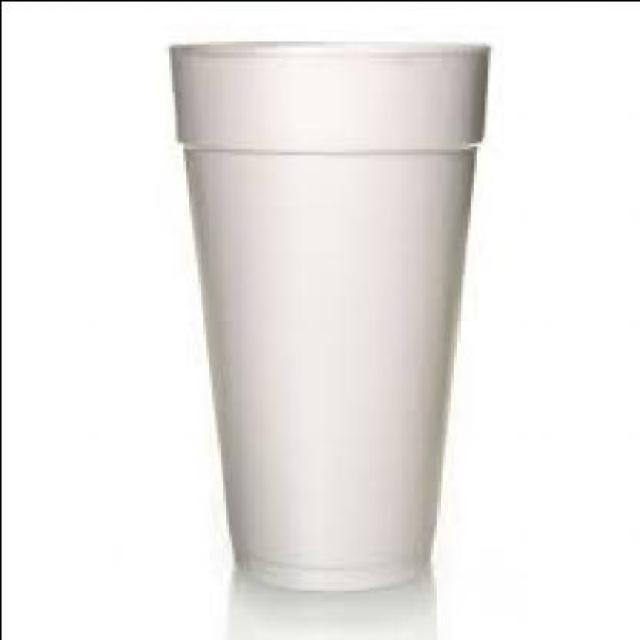PAPER: (165, 40, 492, 589)
